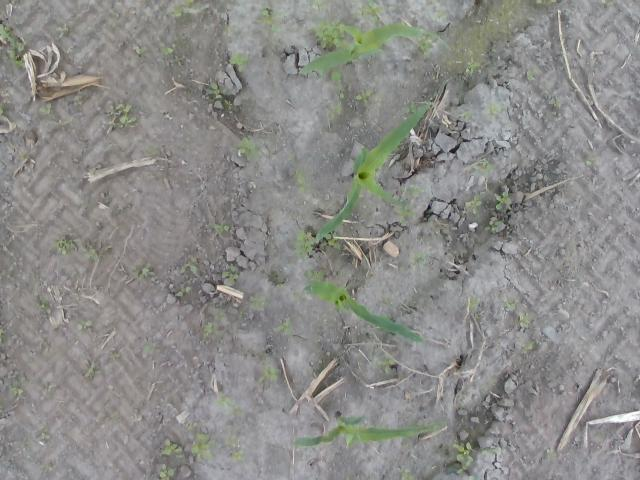Maize: (314, 102, 433, 246), (303, 276, 429, 346), (299, 21, 454, 76), (291, 410, 448, 449)
Weeds: (312, 19, 348, 50), (0, 24, 24, 67), (400, 188, 422, 227), (107, 102, 137, 130), (188, 434, 216, 462), (452, 442, 474, 474), (215, 393, 242, 416), (295, 231, 315, 258), (255, 9, 281, 29), (314, 232, 340, 252), (355, 0, 383, 18), (162, 439, 186, 460), (330, 85, 344, 120), (224, 440, 244, 464), (234, 137, 256, 157), (272, 317, 294, 337), (258, 366, 280, 386), (162, 46, 185, 64), (474, 160, 494, 180), (266, 270, 288, 288), (10, 374, 26, 398), (208, 84, 228, 102), (495, 191, 512, 211), (222, 266, 239, 286), (356, 90, 379, 104), (54, 240, 74, 256), (175, 0, 193, 17), (85, 359, 100, 379), (130, 266, 151, 280), (468, 294, 482, 315), (158, 464, 176, 480), (297, 172, 308, 198), (409, 250, 426, 266), (227, 54, 249, 66), (398, 467, 418, 480), (379, 358, 395, 374), (466, 198, 483, 213), (251, 295, 267, 310), (202, 322, 216, 339), (80, 249, 98, 262), (38, 423, 50, 442), (181, 260, 197, 274), (518, 312, 530, 330), (37, 292, 49, 310), (468, 58, 480, 74), (481, 446, 498, 457), (502, 299, 516, 312), (77, 320, 92, 332), (486, 220, 500, 232), (39, 103, 53, 115), (212, 223, 230, 232), (177, 286, 190, 298), (58, 25, 68, 38), (142, 344, 154, 354), (312, 1, 328, 8), (331, 72, 342, 82), (524, 342, 536, 351), (584, 156, 594, 166), (550, 99, 559, 110), (548, 446, 556, 458), (134, 47, 144, 56), (0, 326, 5, 342), (490, 106, 499, 114), (462, 112, 472, 118), (526, 70, 533, 78)
